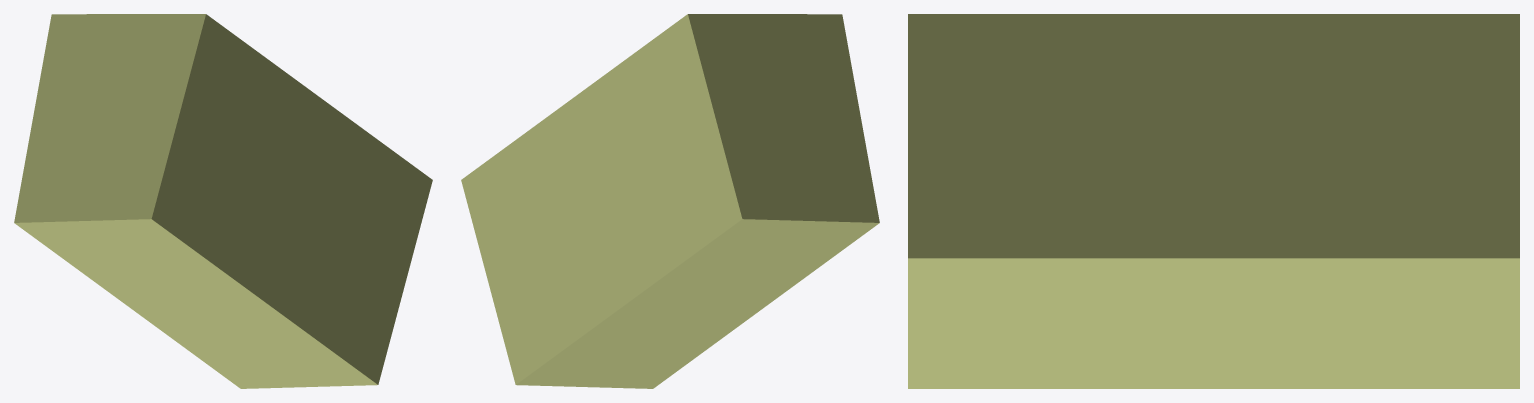
The picture shows the model from 3 angles, left to right: view 1: azimuth 30°, elevation 25°; view 2: azimuth 150°, elevation 25°; view 3: azimuth 270°, elevation 25°; orthographic projection. The views are drawn at different scales.
Visible parts, largest first — view 1: 0_0_1_3_1_2_2_0_3_3_0; view 2: 0_0_1_3_1_2_2_0_3_3_0; view 3: 0_0_1_3_1_2_2_0_3_3_0.
Boxes of the visible parts, left/top/right/bottom form: 0_0_1_3_1_2_2_0_3_3_0: left=14, top=14, right=432, bottom=388; 0_0_1_3_1_2_2_0_3_3_0: left=461, top=14, right=879, bottom=388; 0_0_1_3_1_2_2_0_3_3_0: left=908, top=14, right=1519, bottom=388.
Size of the model in its own units: 4.4 by 5.02 by 9.
